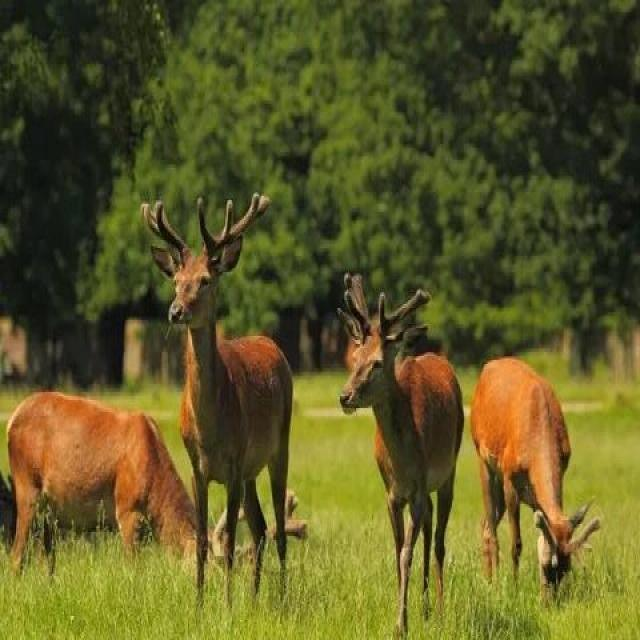deer: (132, 219, 376, 596), (300, 249, 493, 595), (2, 361, 224, 603), (448, 352, 614, 616)
